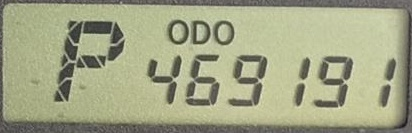1: (377, 56, 397, 107), (292, 56, 310, 107)
4: (145, 54, 182, 105)
6: (185, 53, 221, 106)
9: (226, 54, 268, 107), (312, 55, 353, 108)
X: (51, 17, 126, 104), (166, 19, 190, 45), (212, 20, 235, 45), (191, 19, 211, 46)
